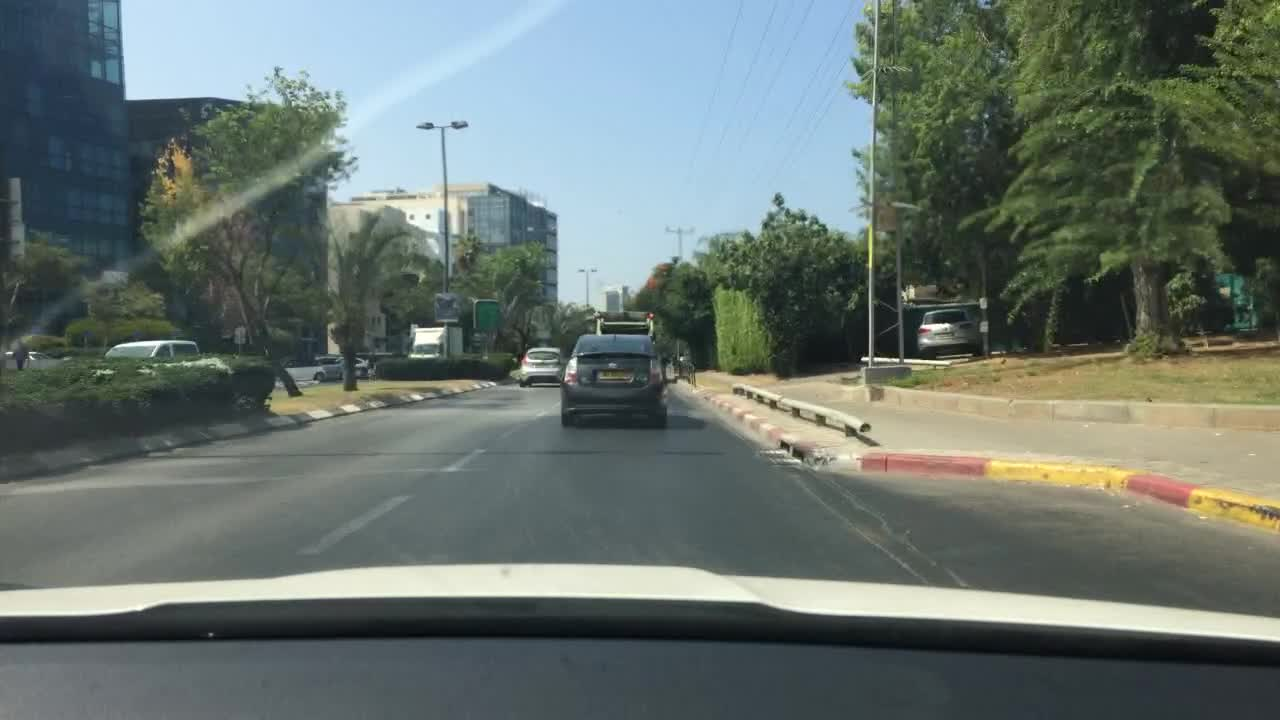car: (559, 332, 666, 423), (915, 307, 980, 360), (518, 345, 564, 387), (104, 338, 199, 353), (336, 355, 374, 376), (284, 360, 319, 382), (315, 354, 343, 380), (4, 351, 54, 360)
person: (12, 340, 28, 370)
traffic sign: (432, 293, 460, 321), (474, 299, 499, 330), (233, 327, 244, 343)
truck: (407, 326, 463, 358), (595, 309, 656, 337)
